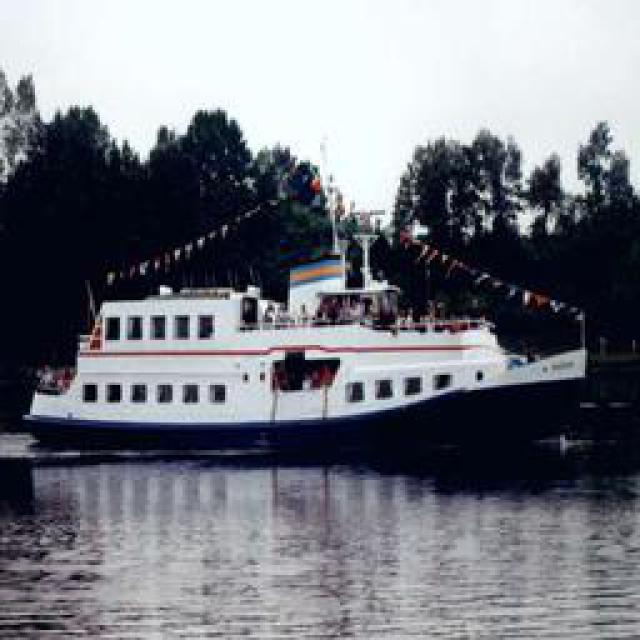Ship: (21, 247, 596, 457)
